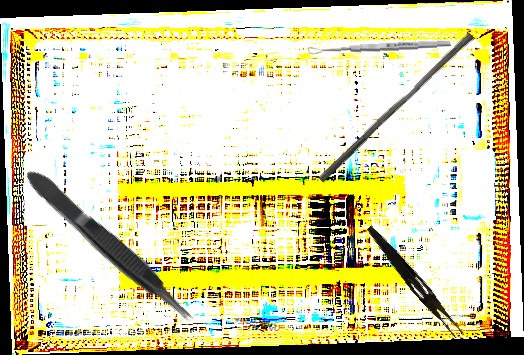Dressing Forceps: (360, 223, 468, 340)
Pusher: (318, 27, 475, 189)
Surgical Spoon: (307, 38, 452, 56)
Tissue Forceps: (20, 161, 201, 332)
